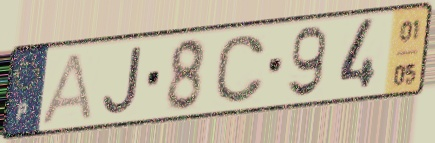4: (336, 15, 383, 96)
8: (163, 35, 209, 114)
9: (285, 23, 330, 100)
A: (38, 50, 95, 127)
C: (212, 32, 268, 107)
J: (99, 43, 144, 118)
